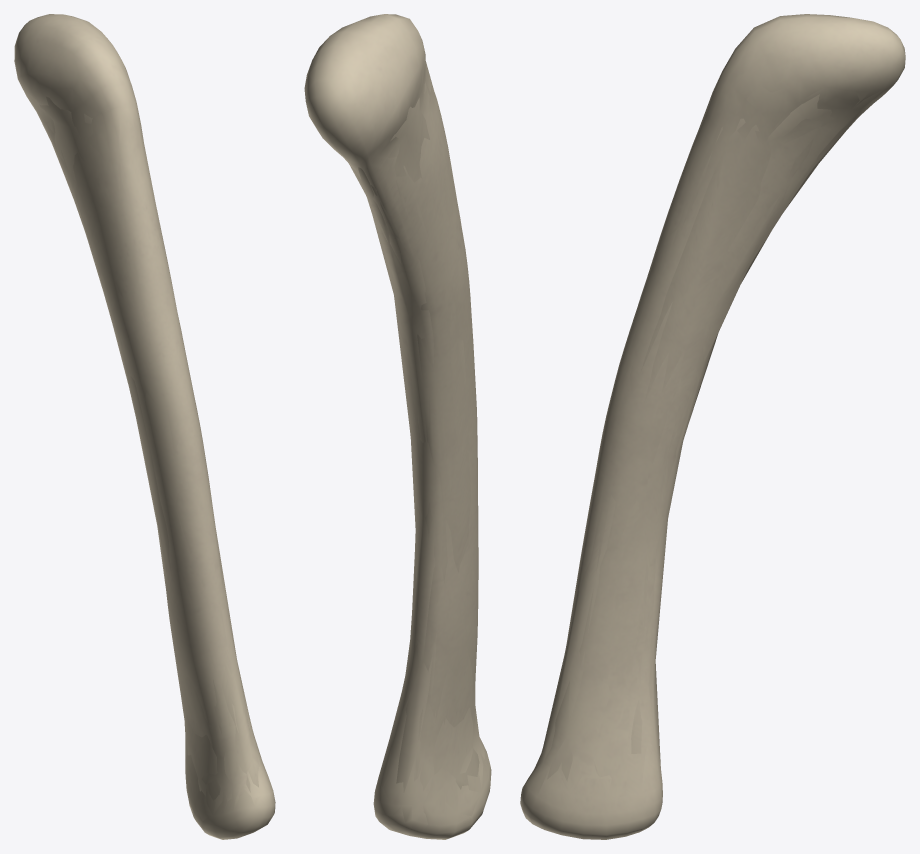
File: L metacarpi quartum.fbx
The picture shows the model from 3 angles, left to right: view 1: azimuth 30°, elevation 25°; view 2: azimuth 150°, elevation 25°; view 3: azimuth 270°, elevation 25°; orthographic projection. The views are drawn at different scales.
Visible parts, largest first — view 1: L metacarpi quartum, L metacarpi quartum high, L metacarpi quartum low; view 2: L metacarpi quartum, L metacarpi quartum high, L metacarpi quartum low; view 3: L metacarpi quartum, L metacarpi quartum low, L metacarpi quartum high.
Boxes of the visible parts, bbox=[...] form: L metacarpi quartum: bbox=[14, 14, 275, 839]; L metacarpi quartum high: bbox=[15, 15, 273, 838]; L metacarpi quartum low: bbox=[39, 96, 265, 800]; L metacarpi quartum: bbox=[304, 14, 491, 839]; L metacarpi quartum high: bbox=[305, 14, 490, 839]; L metacarpi quartum low: bbox=[349, 81, 479, 792]; L metacarpi quartum: bbox=[520, 14, 905, 839]; L metacarpi quartum low: bbox=[531, 94, 865, 781]; L metacarpi quartum high: bbox=[521, 14, 904, 839].
Bounding box in the file's own units: 2.09 × 12.36 × 5.42.
Materials: 1 (1 with a texture image).
